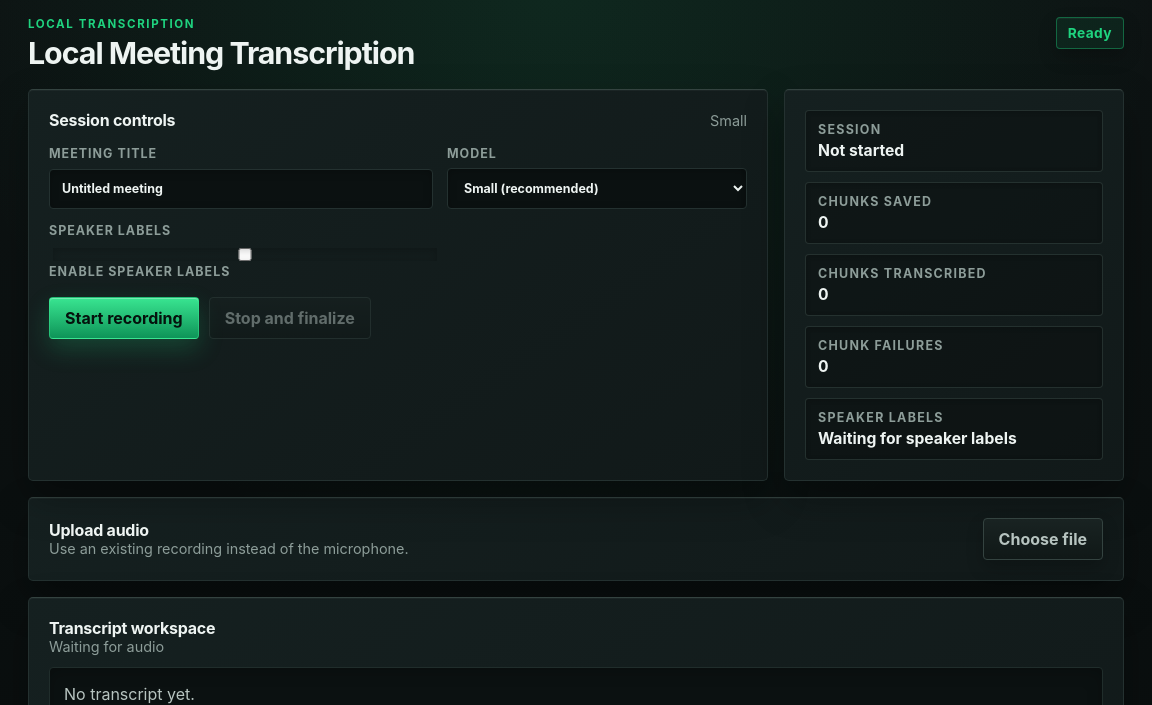
Test: App › records microphone audio as live chunks, finalizes the session, and does not use legacy microphone transcription
Click the button "Start recording" at point(124, 318), box [49,297,199,339]
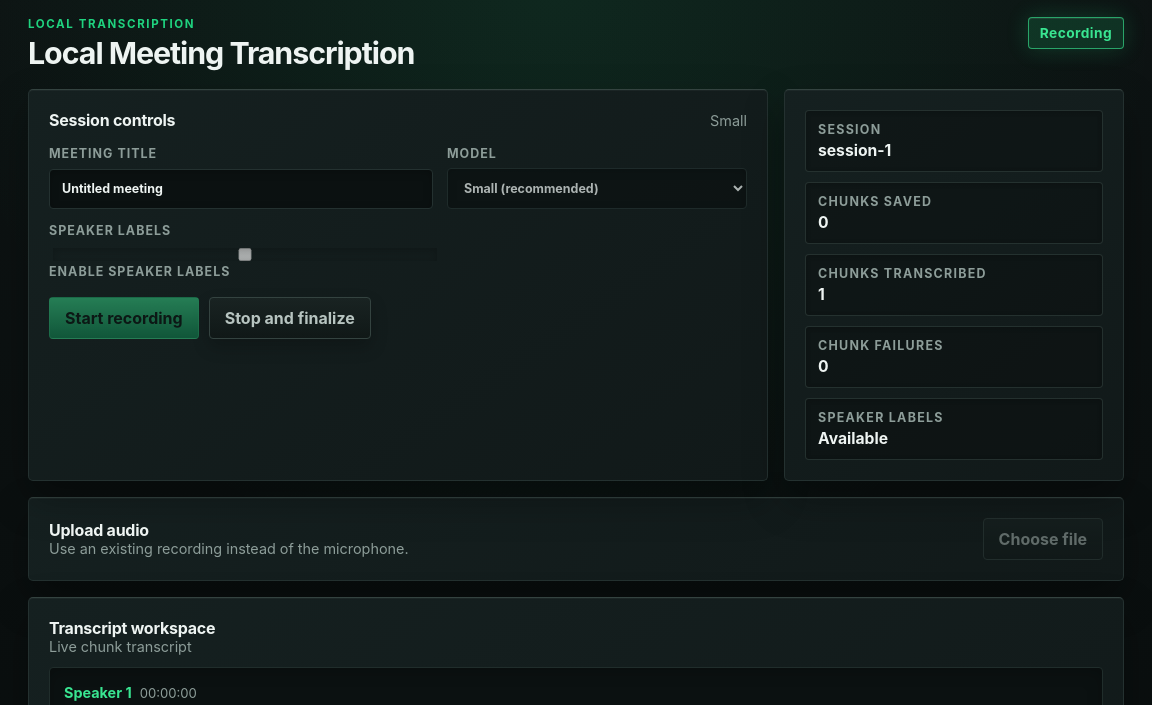
Check: the text "Speaker 1" is shown, box [64,682,132,704]
Click the button "Stop and finalize" at point(290, 318), box [209,297,371,339]
(page scrolled)
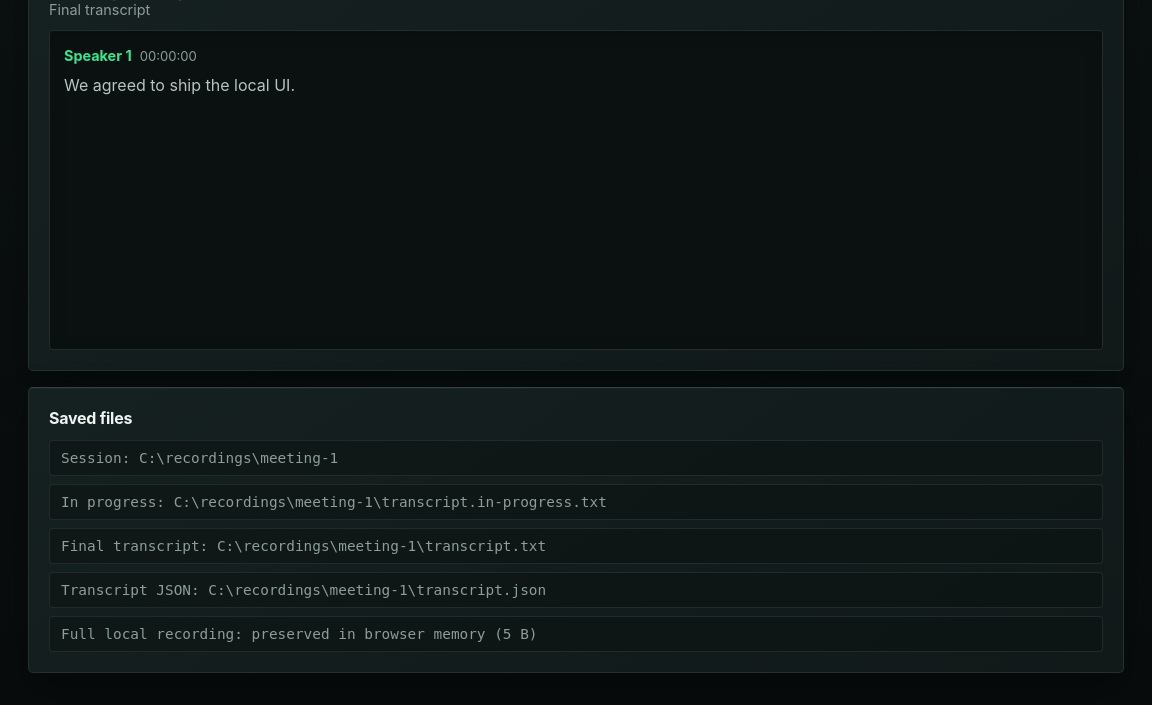
Check: the text "Session: C:\\recordings\\meeting-1" is shown, box [49,440,1103,476]
Check: the text "In progress: C:\\recordings\\meeting-1\\transcript.in-progress.txt" is shown, box [49,484,1103,520]
Check: the text "Final transcript: C:\\recordings\\meeting-1\\transcript.txt" is shown, box [49,528,1103,564]
